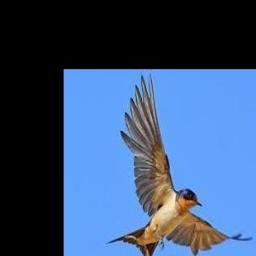Swallow: (105, 73, 252, 256)
